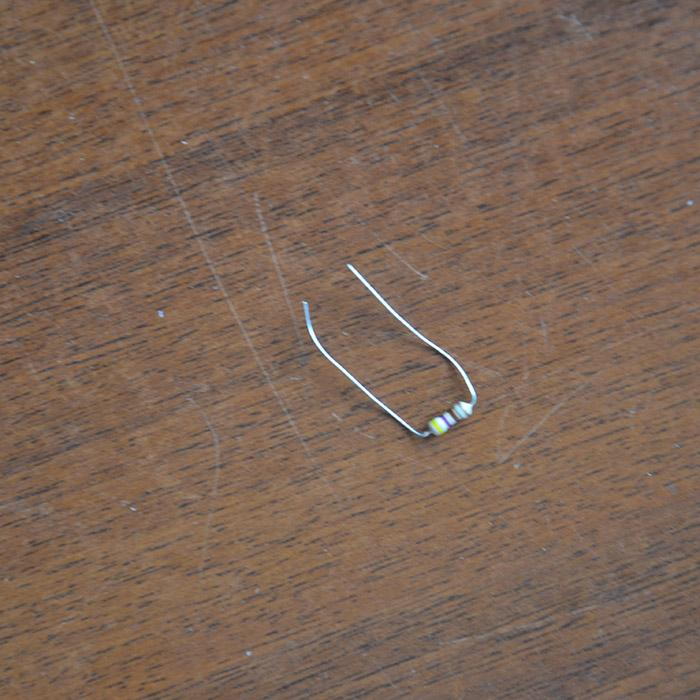resistor: (425, 399, 474, 443)
